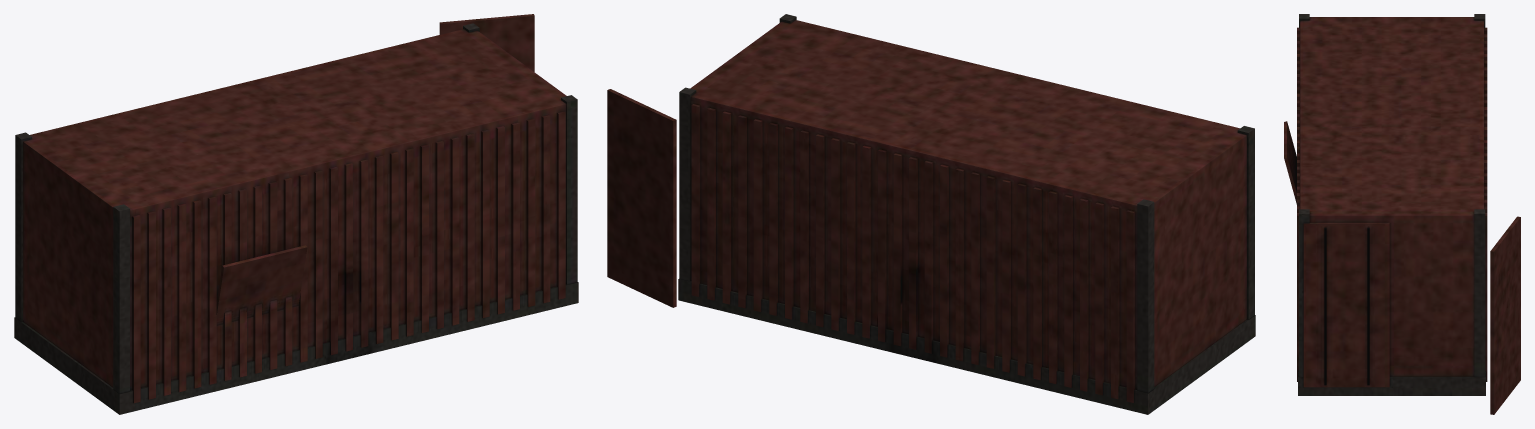
The model's file is container_a.glb.
The picture shows the model from 3 angles, left to right: view 1: azimuth 30°, elevation 25°; view 2: azimuth 150°, elevation 25°; view 3: azimuth 270°, elevation 25°; orthographic projection. The views are drawn at different scales.
Parts seen in each view (by area): view 1: container_a; view 2: container_a; view 3: container_a.
Boxes of the visible parts, x1,y1,x2,y2 form: container_a: (14,14,578,414); container_a: (607,14,1255,414); container_a: (1284,14,1520,414).
Size of the model in its own units: 6.91 by 2.56 by 3.02.
1 material, 1 textured.
